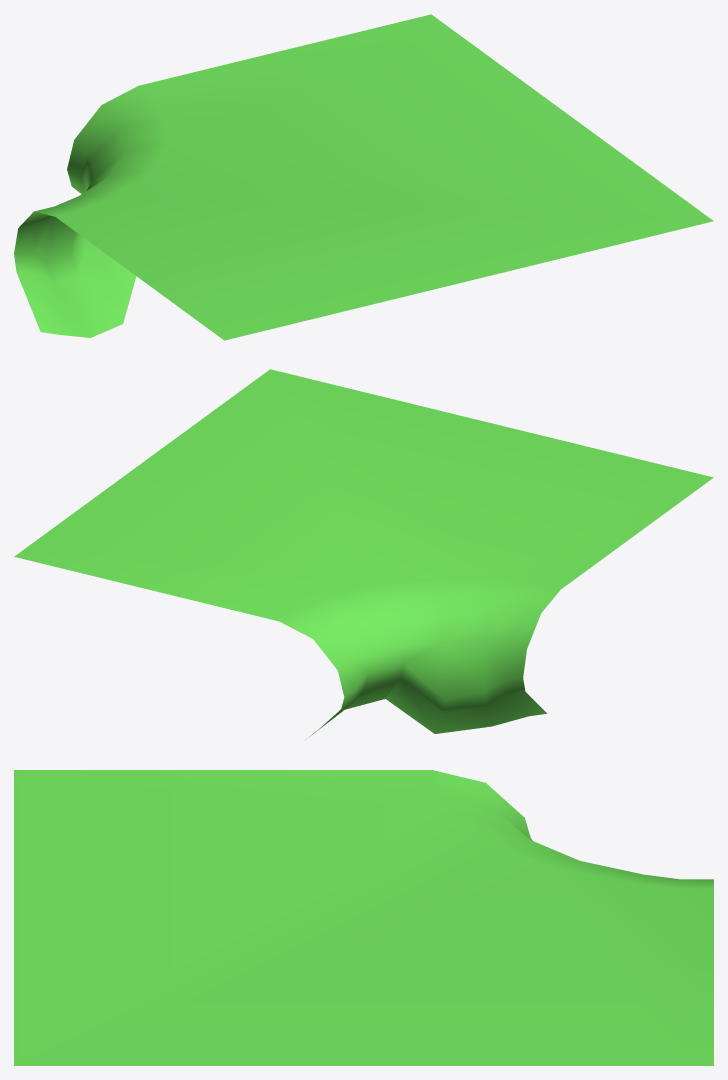
Rendered from Grass_InteriorCorner_Mesh.fbx.
3 renders of one model, top to bottom at view 1: azimuth 30°, elevation 25°; view 2: azimuth 150°, elevation 25°; view 3: azimuth 270°, elevation 25°, orthographic. The views are drawn at different scales.
Visible parts, largest first — view 1: Grass_InteriorCorner; view 2: Grass_InteriorCorner; view 3: Grass_InteriorCorner.
Part boxes in pixels (x1,y1,x2,y2): Grass_InteriorCorner: [14, 14, 713, 340]; Grass_InteriorCorner: [14, 369, 713, 736]; Grass_InteriorCorner: [14, 770, 713, 1065].
Size of the model in its own units: 200 by 200 by 61.87.
